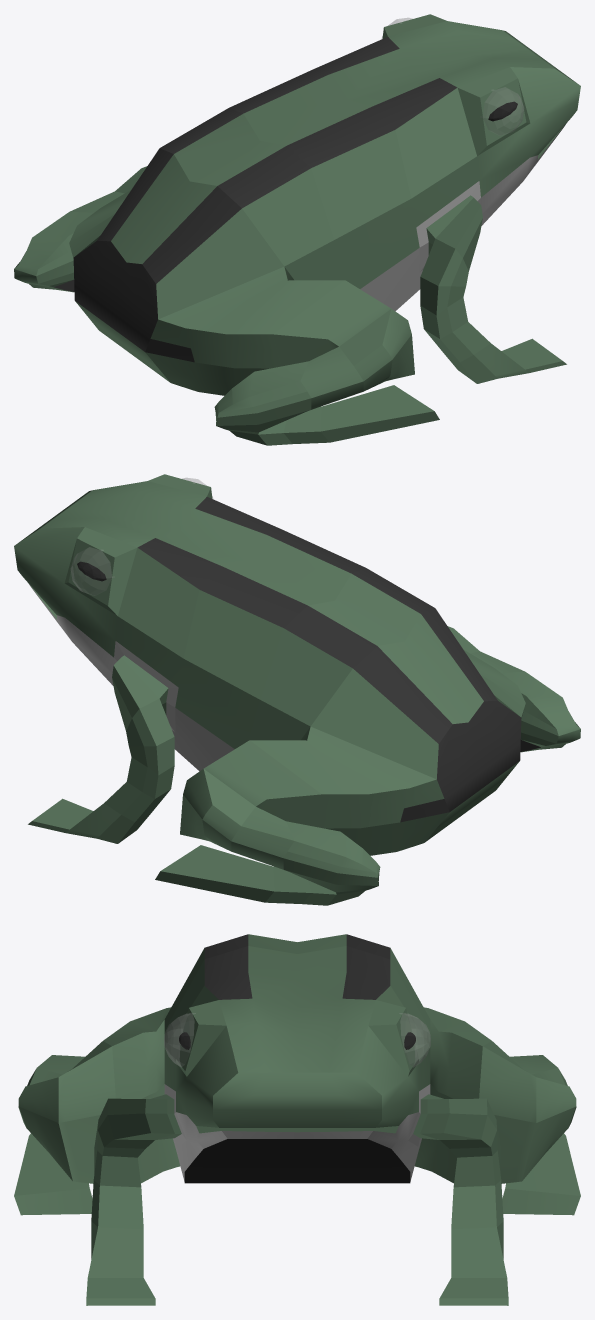
Rendered from Frog.fbx.
3 renders of one model, top to bottom at view 1: azimuth 30°, elevation 25°; view 2: azimuth 150°, elevation 25°; view 3: azimuth 270°, elevation 25°, orthographic. The views are drawn at different scales.
Parts seen in each view (by area): view 1: pSphere2; view 2: pSphere2; view 3: pSphere2.
Part boxes in pixels (x1,y1,x2,y2): pSphere2: (14, 14, 580, 445); pSphere2: (14, 474, 580, 905); pSphere2: (14, 934, 580, 1305).
Size of the model in its own units: 3.81 by 2.11 by 3.83.
